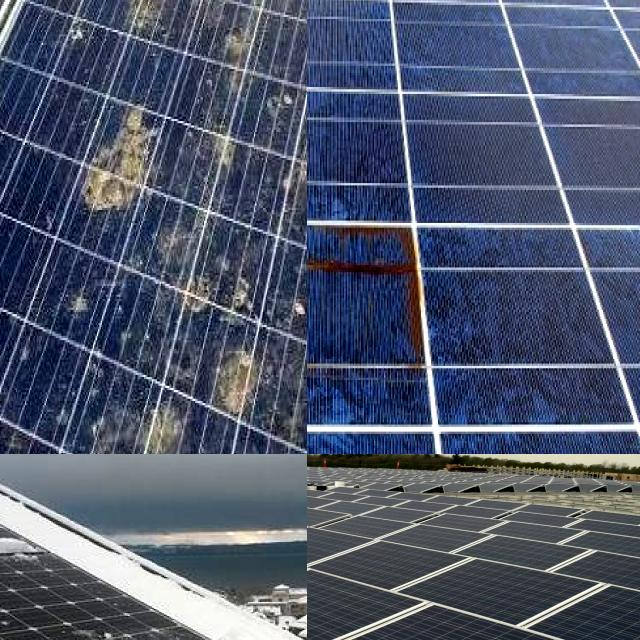bird: (76, 76, 158, 223), (99, 394, 206, 454), (170, 252, 256, 324), (58, 280, 120, 350), (222, 346, 270, 434), (274, 249, 307, 370), (125, 0, 190, 50), (219, 18, 259, 98), (274, 135, 307, 210), (61, 8, 95, 58), (0, 418, 37, 454), (0, 268, 19, 322), (53, 0, 89, 27), (0, 106, 12, 153)
crack: (307, 454, 640, 640), (307, 583, 585, 640)
panel: (85, 610, 230, 640), (0, 512, 61, 563)
shadow: (307, 203, 439, 386)
